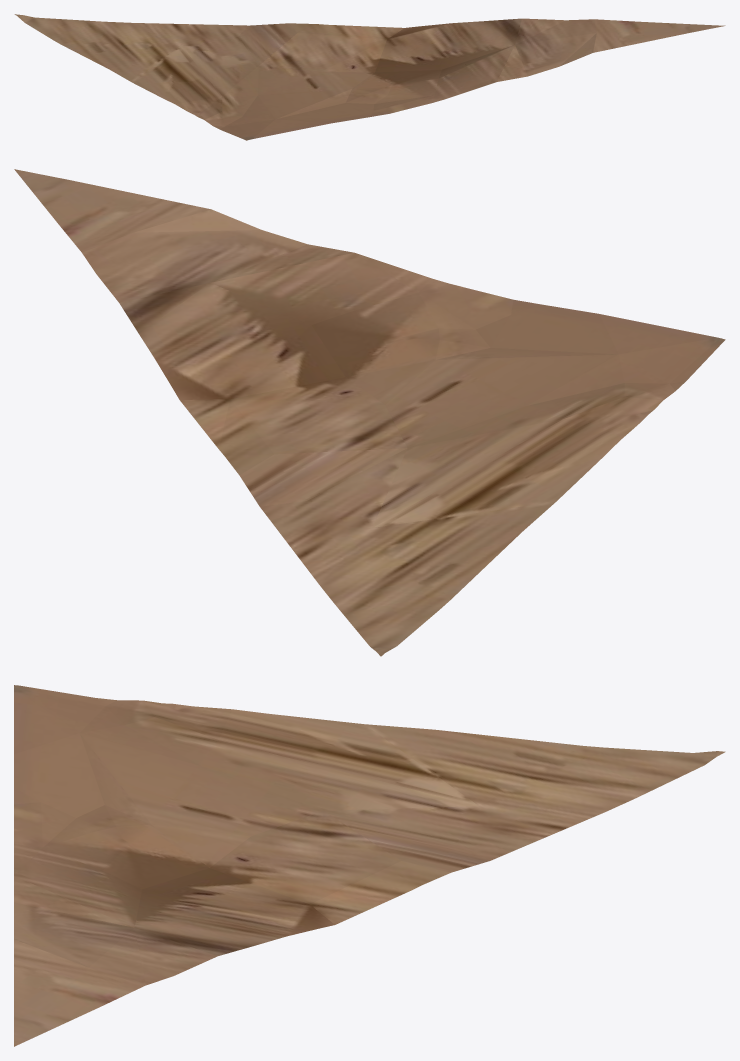
The picture shows the model from 3 angles, top to bottom: view 1: azimuth 30°, elevation 25°; view 2: azimuth 150°, elevation 25°; view 3: azimuth 270°, elevation 25°; orthographic projection. The views are drawn at different scales.
Size of the model in its own units: 2.73 by 0.2644 by 2.29.
1 material, 1 textured.
